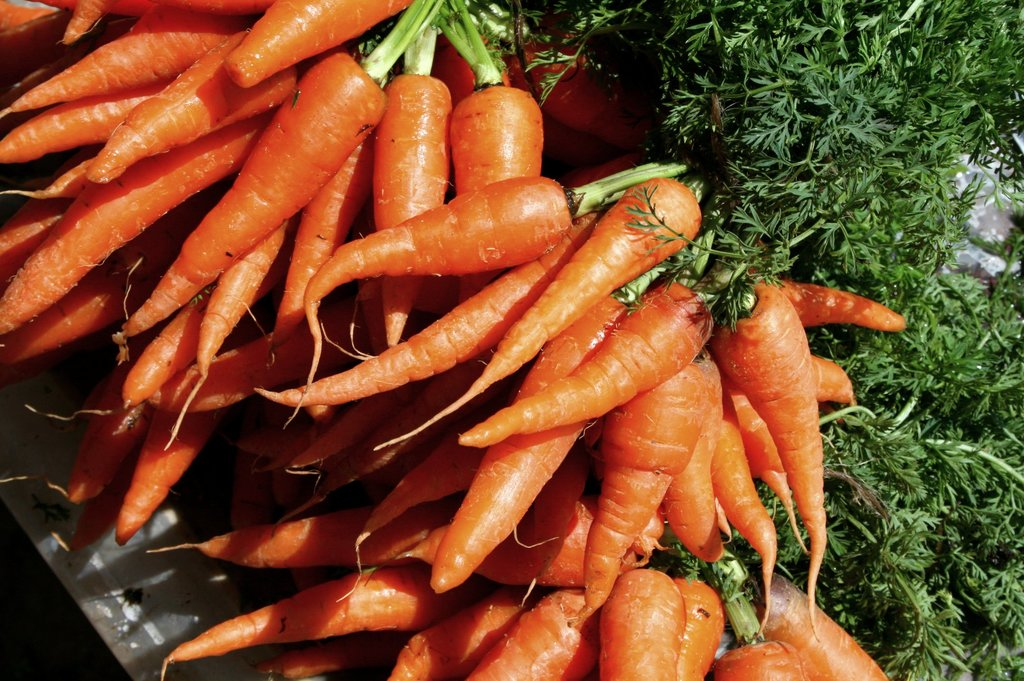face: (560, 65, 663, 150)
